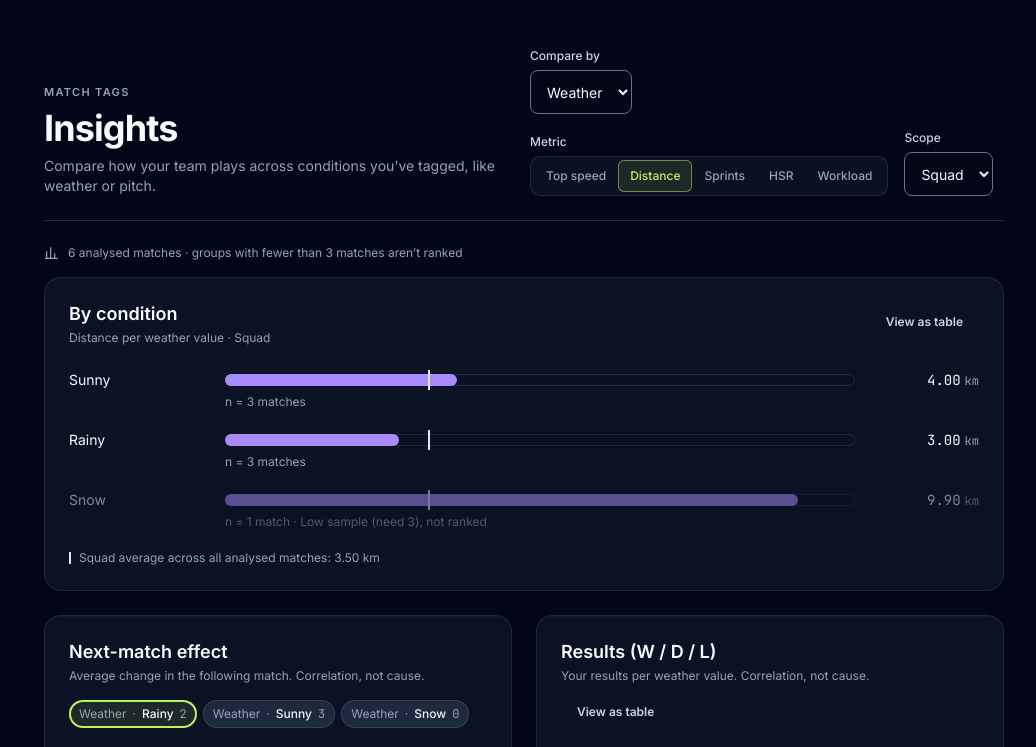
Test: Insights: next-match effect › hides changes for low-sample values and shows the table once n >= 3
The image size is (1036, 747).
What coordinates should you click on to do the following:
click the button "Weather · Sunny 3"
I would click on:
 (269, 714)
Its box is [203, 700, 335, 728].
(page scrolled)
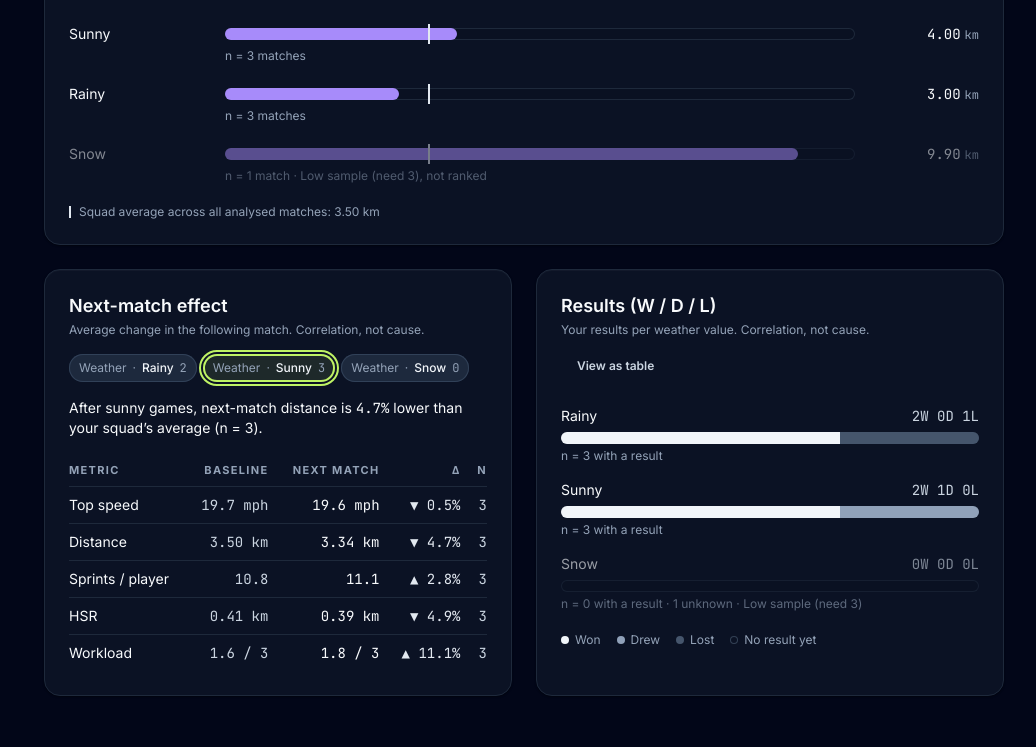
Expected: the row "Metric Baseline Next match Δ n" is shown, [69, 454, 487, 486]
Now the text "After sunny games, next-match distance is" shows "After sunny games, next-match distance is 4.7% lower than your squad’s average (n = 3).", box [69, 398, 487, 438]
Now the row "Workload 1.6 / 3 1.8 / 3 ▲ 11.1% 3" is shown, box [69, 634, 487, 671]
